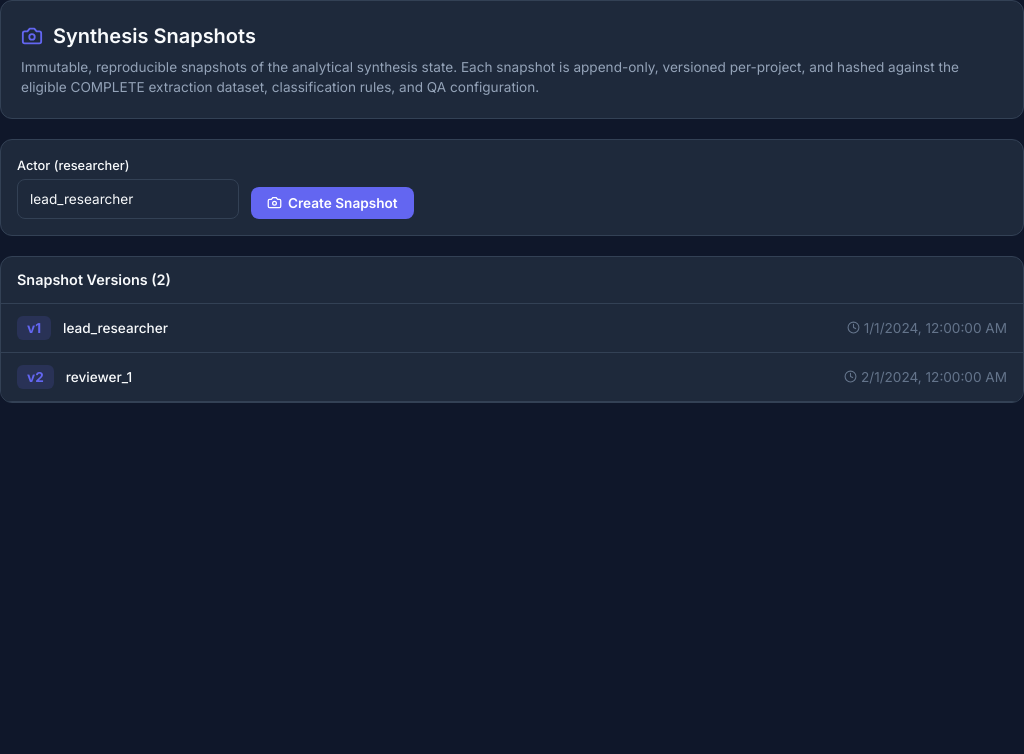
Scenario: SnapshotsWorkspace Component › E5: selecting a snapshot loads detail with hashes
Click the button with test id "snapshot-row-1" at [34, 328], box [1,304,1023,353]
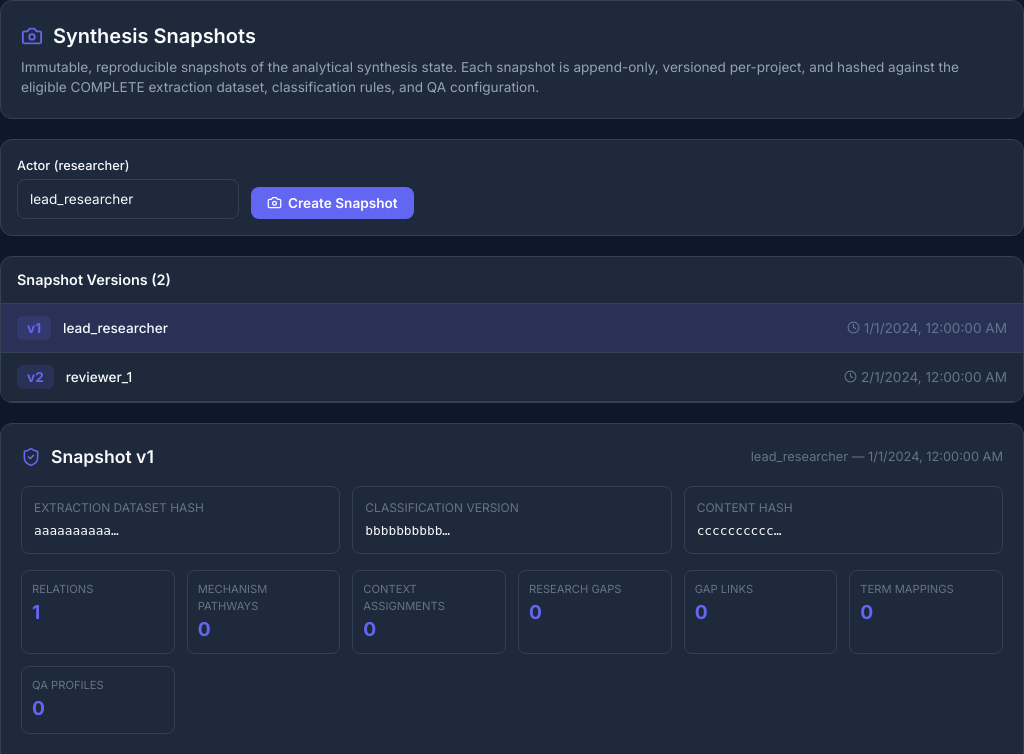
Expected: the text with test id "dataset-hash" is shown, [34,523,119,538]
Expected: the text "Extraction Dataset Hash" is shown, [34,500,204,515]
